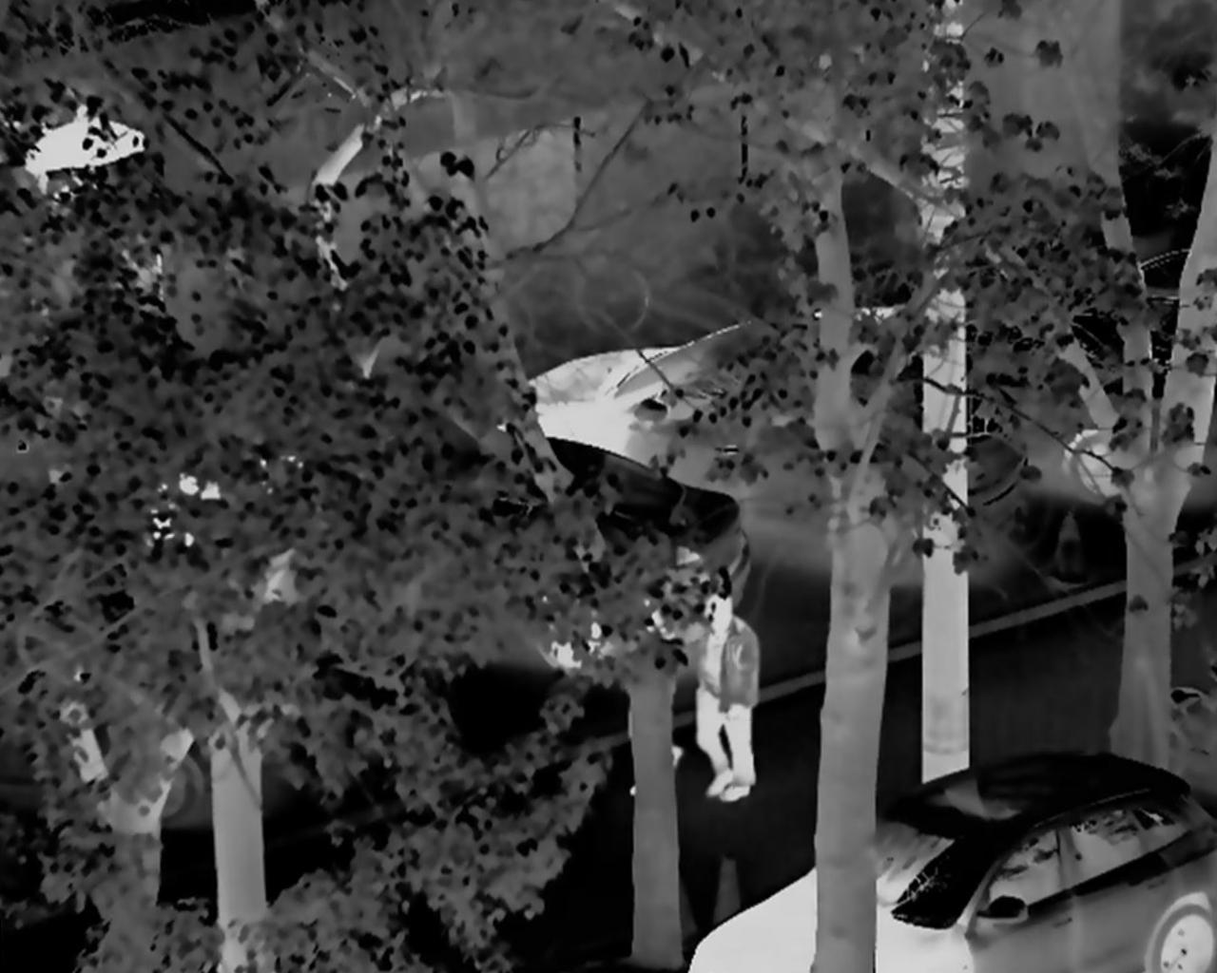person: (690, 585, 759, 797)
